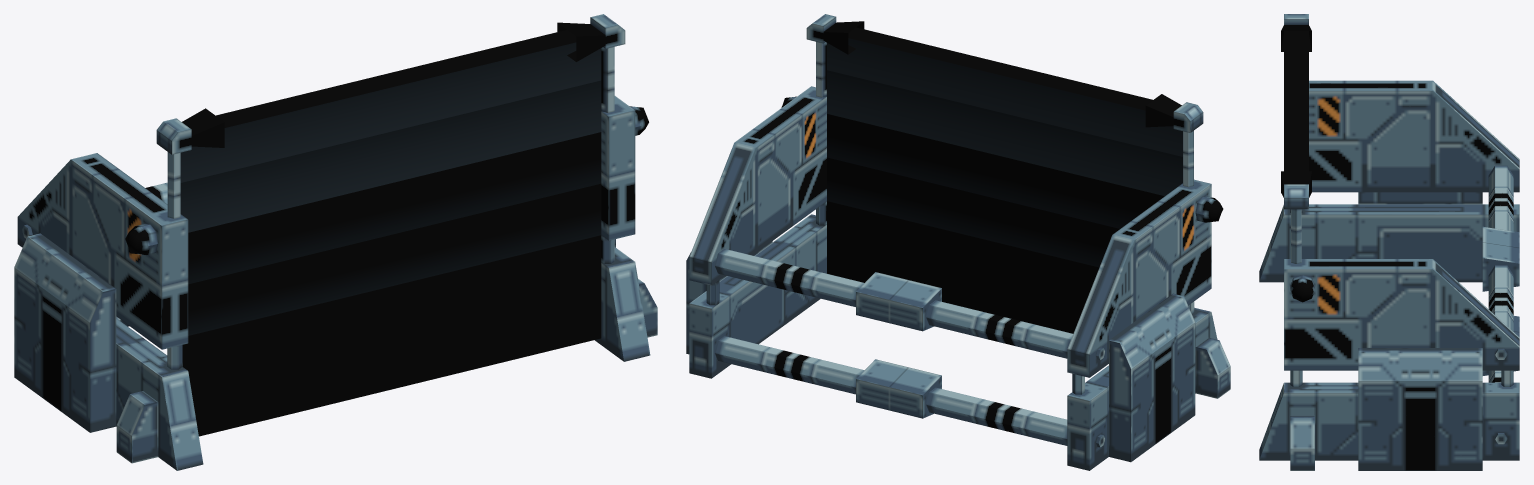
File: Goal.fbx
The picture shows the model from 3 angles, left to right: view 1: azimuth 30°, elevation 25°; view 2: azimuth 150°, elevation 25°; view 3: azimuth 270°, elevation 25°; orthographic projection. The views are drawn at different scales.
Visible parts, largest first — view 1: Holograms, Structure; view 2: Structure, Holograms; view 3: Structure, Holograms.
Boxes of the visible parts, <box> form: Holograms: <box>180,22,605,436</box>; Structure: <box>14,14,657,470</box>; Structure: <box>686,14,1230,470</box>; Holograms: <box>823,21,1182,333</box>; Structure: <box>1259,14,1519,470</box>; Holograms: <box>1281,25,1311,197</box>.
Bounding box in the file's own units: 40 × 23.56 × 21.
